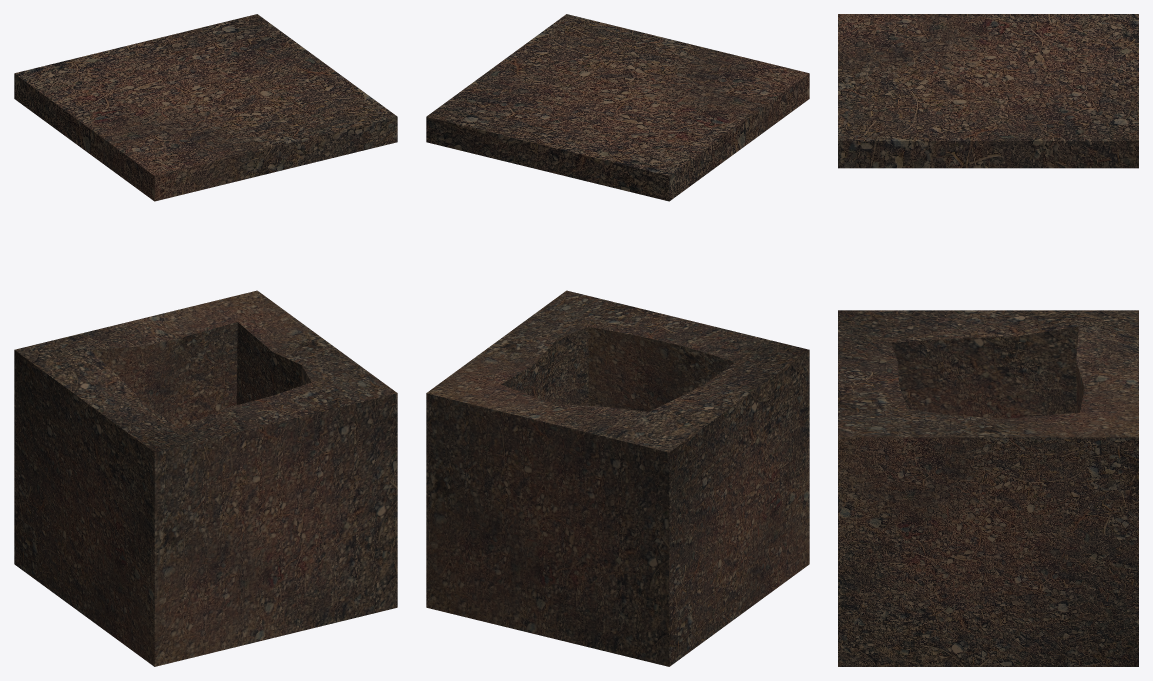
File: EarthHole.glb
3 views of the same model, side by side, from view 1: azimuth 30°, elevation 25°; view 2: azimuth 150°, elevation 25°; view 3: azimuth 270°, elevation 25° (orthographic). The views are drawn at different scales.
Visible parts, largest first — view 1: Cube; view 2: Cube; view 3: Cube.
Boxes of the visible parts, x1,y1,x2,y2 form: Cube: (14,14,397,666); Cube: (426,14,809,666); Cube: (838,14,1138,666).
Bounding box in the file's own units: 2 × 3.86 × 2.
Materials: 1 (1 with a texture image).
